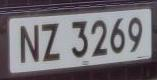2: (89, 15, 111, 60)
3: (68, 16, 91, 60)
6: (108, 13, 128, 56)
9: (125, 14, 146, 54)
N: (19, 19, 42, 70)
Z: (40, 18, 63, 67)
